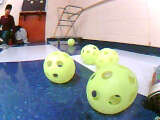Ball: (85, 64, 139, 115), (43, 51, 76, 84), (80, 43, 99, 66), (97, 48, 118, 68), (65, 39, 75, 45)
